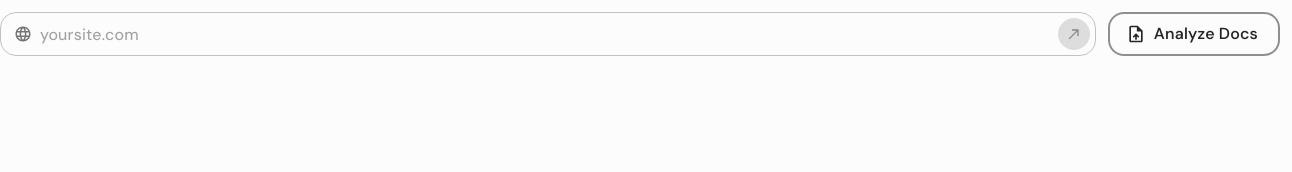
Test: QuickAuditBar › shows the failure near the form when the session cannot be established
Type "example.com" into the field named "Website address to audit".
click(545, 34); type("example.com")  # box [40,14,1050,54]
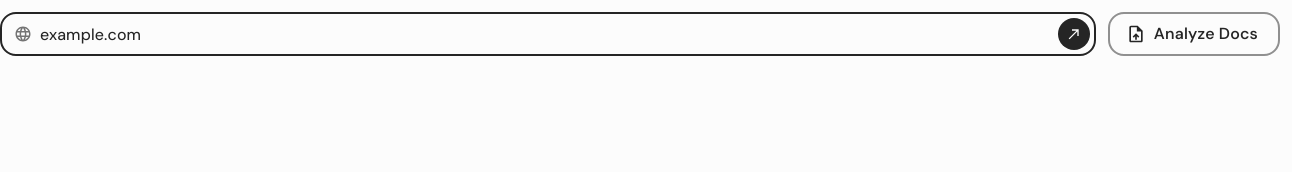
Click the button named "Run audit".
click(1074, 34)  # box [1058,18,1090,50]
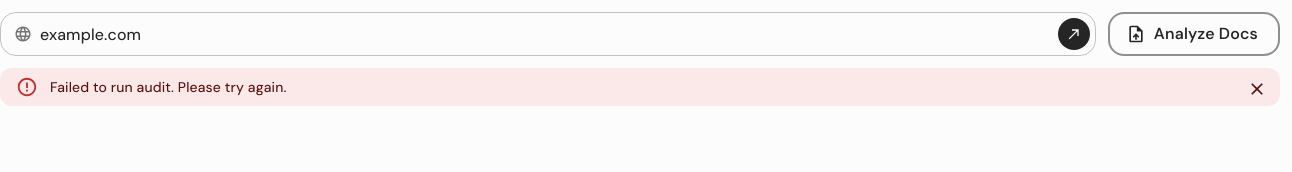
Expected: the button named "Run audit" is enabled, [1058,18,1090,50]
Expected: the message reads "Failed to run audit. Please try again.", [50,78,286,96]
